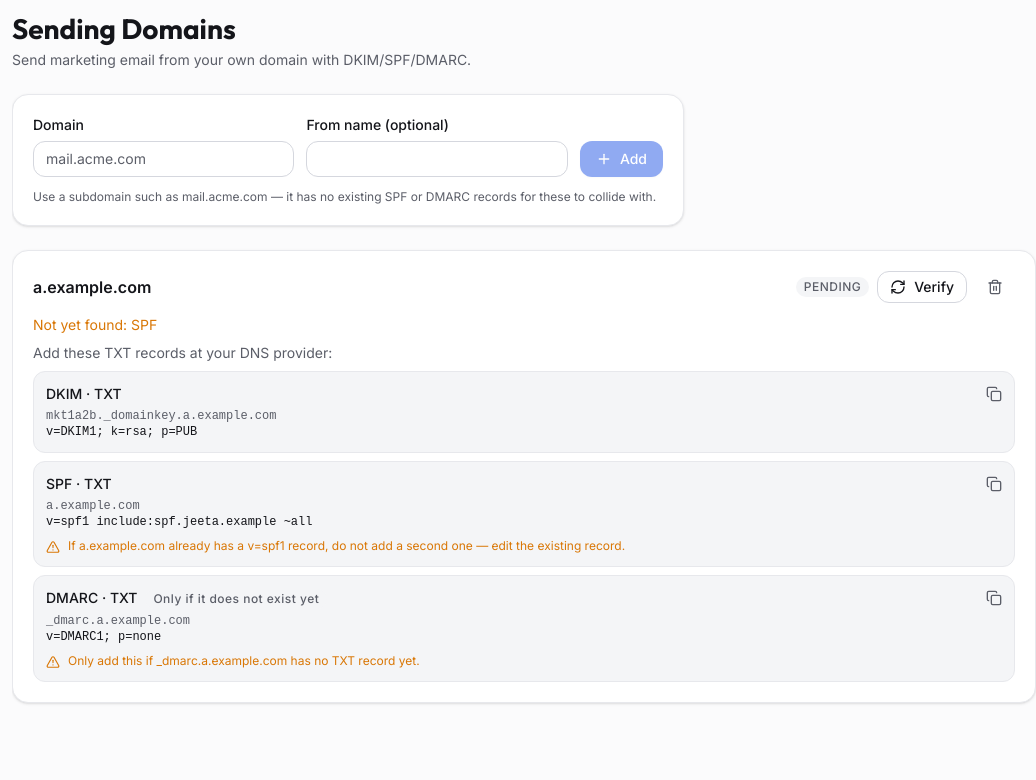
Test: SendingDomainsPage › after a verify that came back with a reason › names the duplicate instead of telling the tenant to add the record again
The width and height of the screenshot is (1036, 780).
Click the button "Verify".
click(922, 287)  # box [877,271,967,303]
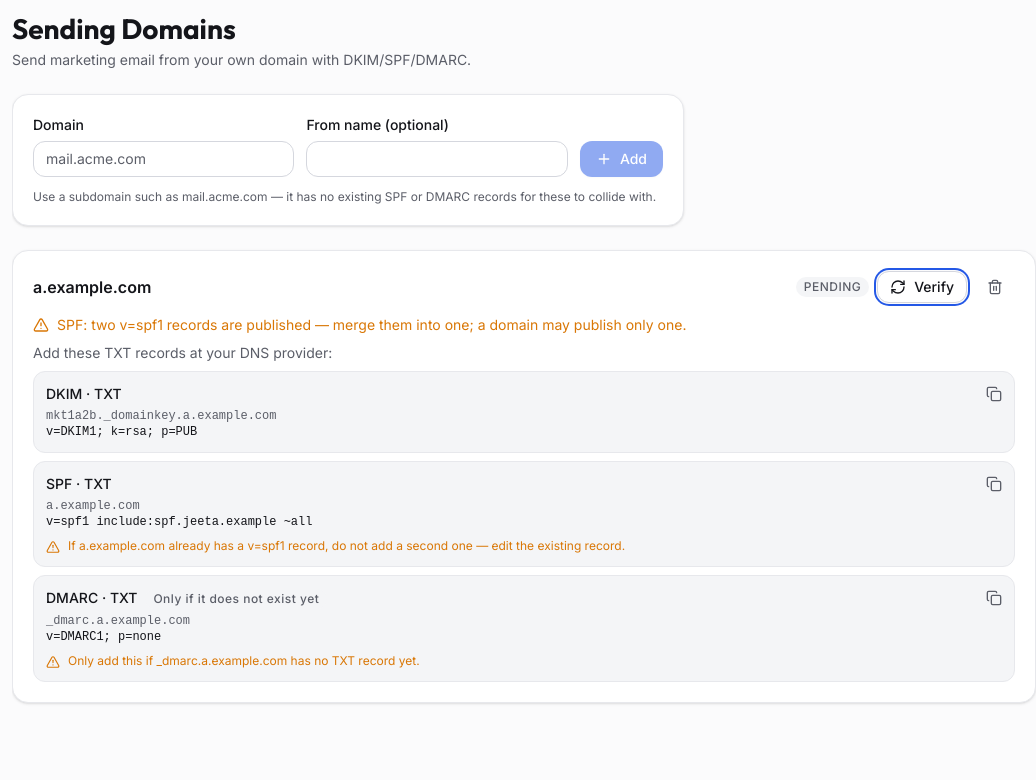
Check: the text "two v=spf1 records" is shown, box [57,316,686,333]
Check: the text "Not yet found: SPF" is gone
